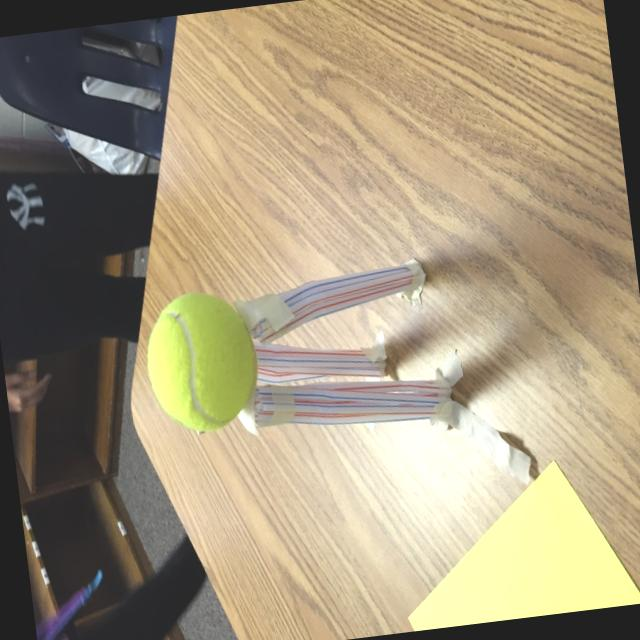Tennis Ball: (138, 284, 264, 438)
